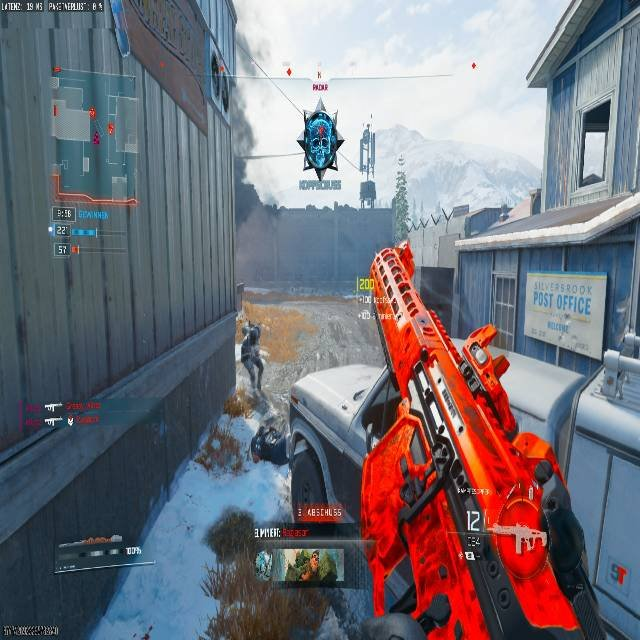player: (296, 109, 343, 177), (235, 311, 269, 400)
